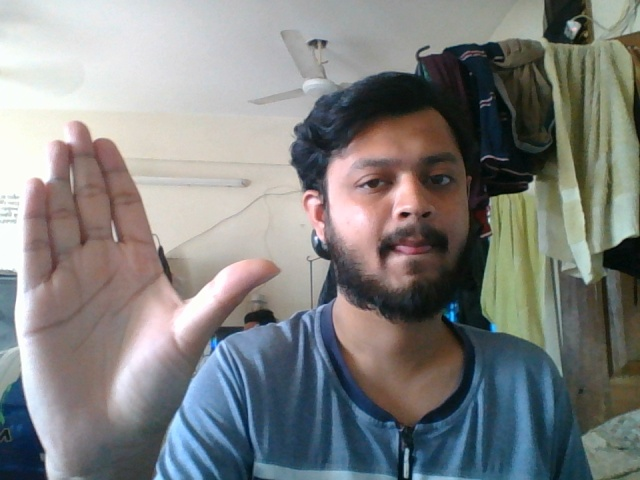a: (8, 110, 292, 480)
